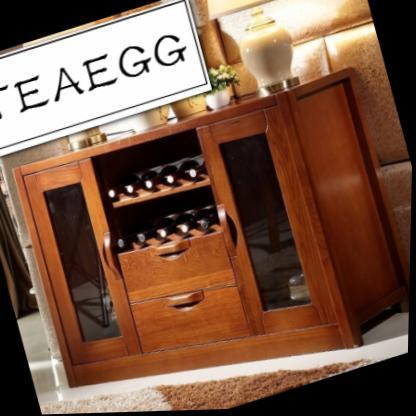Cupboard: (13, 71, 411, 389)
